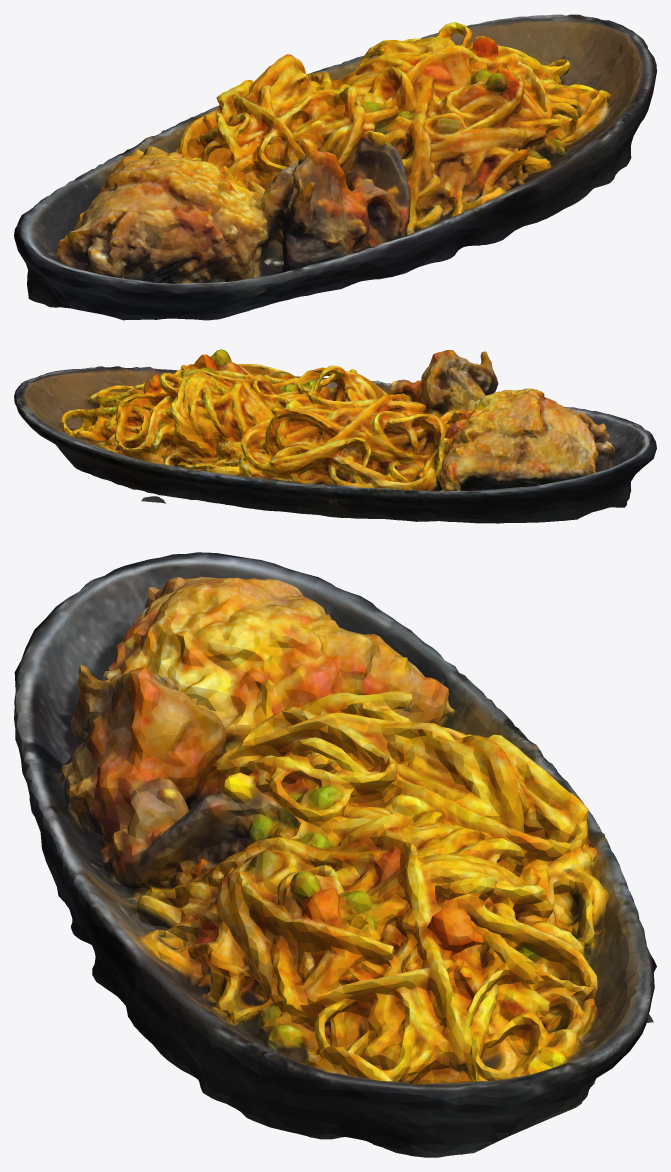
File: Spaghetti jollof with beef and chicken .glb
3 views of the same model, one above another, from view 1: azimuth 30°, elevation 25°; view 2: azimuth 150°, elevation 25°; view 3: azimuth 270°, elevation 25° (orthographic). The views are drawn at different scales.
Visible parts, largest first — view 1: Mesh_0; view 2: Mesh_0; view 3: Mesh_0.
Part boxes in pixels (x1,y1,x2,y2): Mesh_0: (14,14,656,320); Mesh_0: (14,349,656,523); Mesh_0: (14,552,656,1157).
Bounding box in the file's own units: 1.01 × 0.1741 × 0.5236.
Materials: 1 (1 with a texture image).
